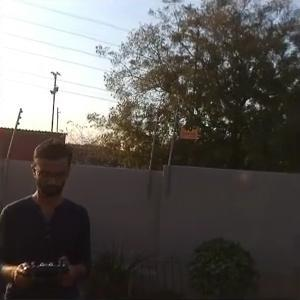follow: (0, 131, 97, 299)
